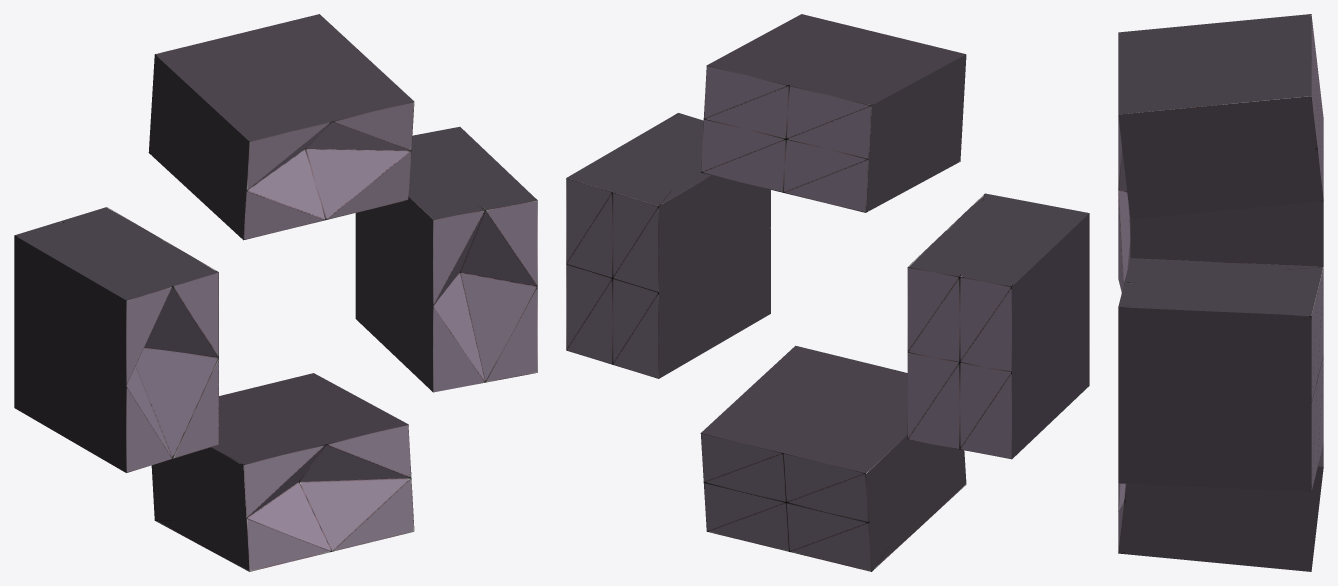
Rendered from boss_AroundCore.obj.
3 views of the same model, side by side, from view 1: azimuth 30°, elevation 25°; view 2: azimuth 150°, elevation 25°; view 3: azimuth 270°, elevation 25° (orthographic). The views are drawn at different scales.
Parts seen in each view (by area): view 1: 立方体.001; view 2: 立方体.001; view 3: 立方体.001.
Boxes of the visible parts, <box> form: 立方体.001: <box>14,14,537,571</box>; 立方体.001: <box>566,14,1089,571</box>; 立方体.001: <box>1118,14,1323,571</box>.
Bounding box in the file's own units: 2.7 × 2.7 × 1.06.
1 material, 1 textured.
